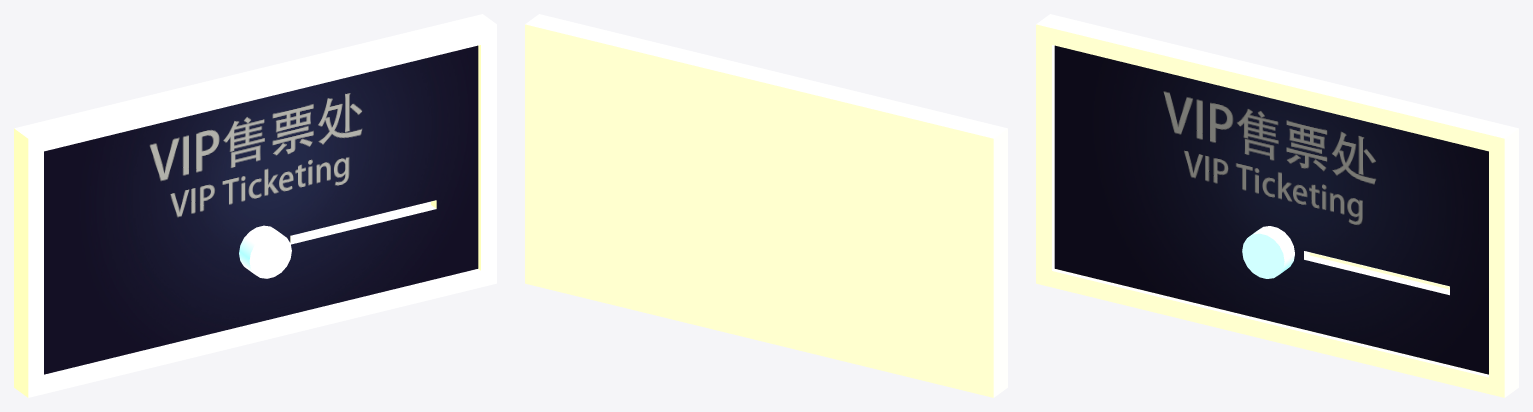
The picture shows the model from 3 angles, left to right: view 1: azimuth 30°, elevation 25°; view 2: azimuth 150°, elevation 25°; view 3: azimuth 330°, elevation 25°; orthographic projection.
Visible parts, largest first — view 1: 对象071, Box363, Cylinder012; view 2: Box363; view 3: 对象071, Box363, Cylinder012.
Boxes of the visible parts, left/top/right/bottom form: 对象071: left=44, top=45, right=478, bottom=374; Box363: left=14, top=14, right=496, bottom=397; Cylinder012: left=239, top=225, right=291, bottom=278; Box363: left=525, top=14, right=1007, bottom=397; 对象071: left=1054, top=45, right=1488, bottom=374; Box363: left=1036, top=14, right=1518, bottom=397; Cylinder012: left=1242, top=226, right=1294, bottom=278.
Bounding box in the file's own units: 1.81 × 0.9587 × 0.146.
Materials: 3 (1 with a texture image).
